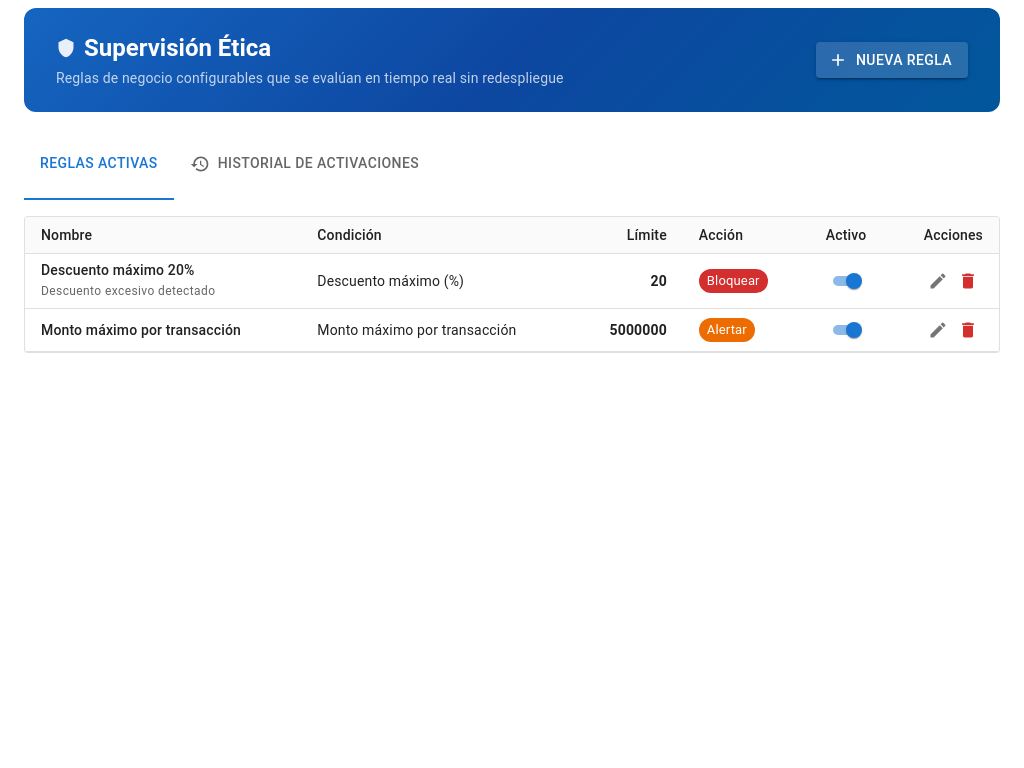
it: ReglasEticasPage › abre el diálogo "Nueva Regla" al hacer clic en el botón
The width and height of the screenshot is (1024, 768).
expect the text "Descuento máximo 20%" is shown: met, box [41,262,194,278]
Step 1. Click the button "Nueva Regla" → (892, 60), box [816,42,968,78]
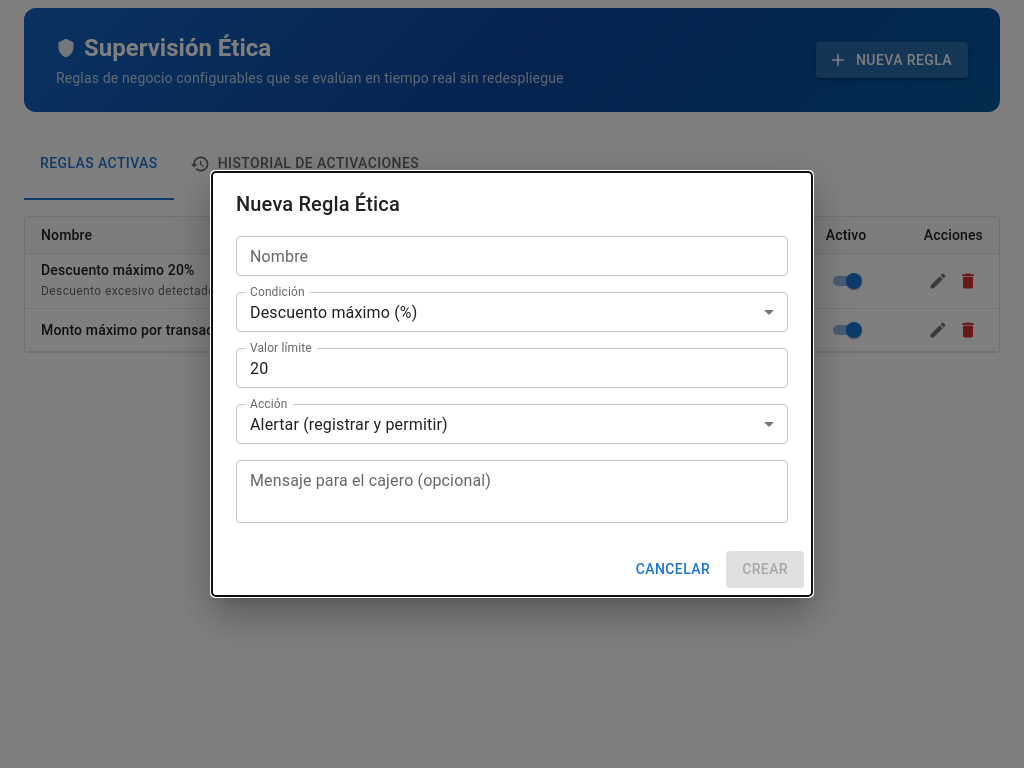
expect the dialog is shown: met, box [212,172,812,596]
expect the heading "Nueva Regla Ética" is shown: met, box [236,192,400,216]
